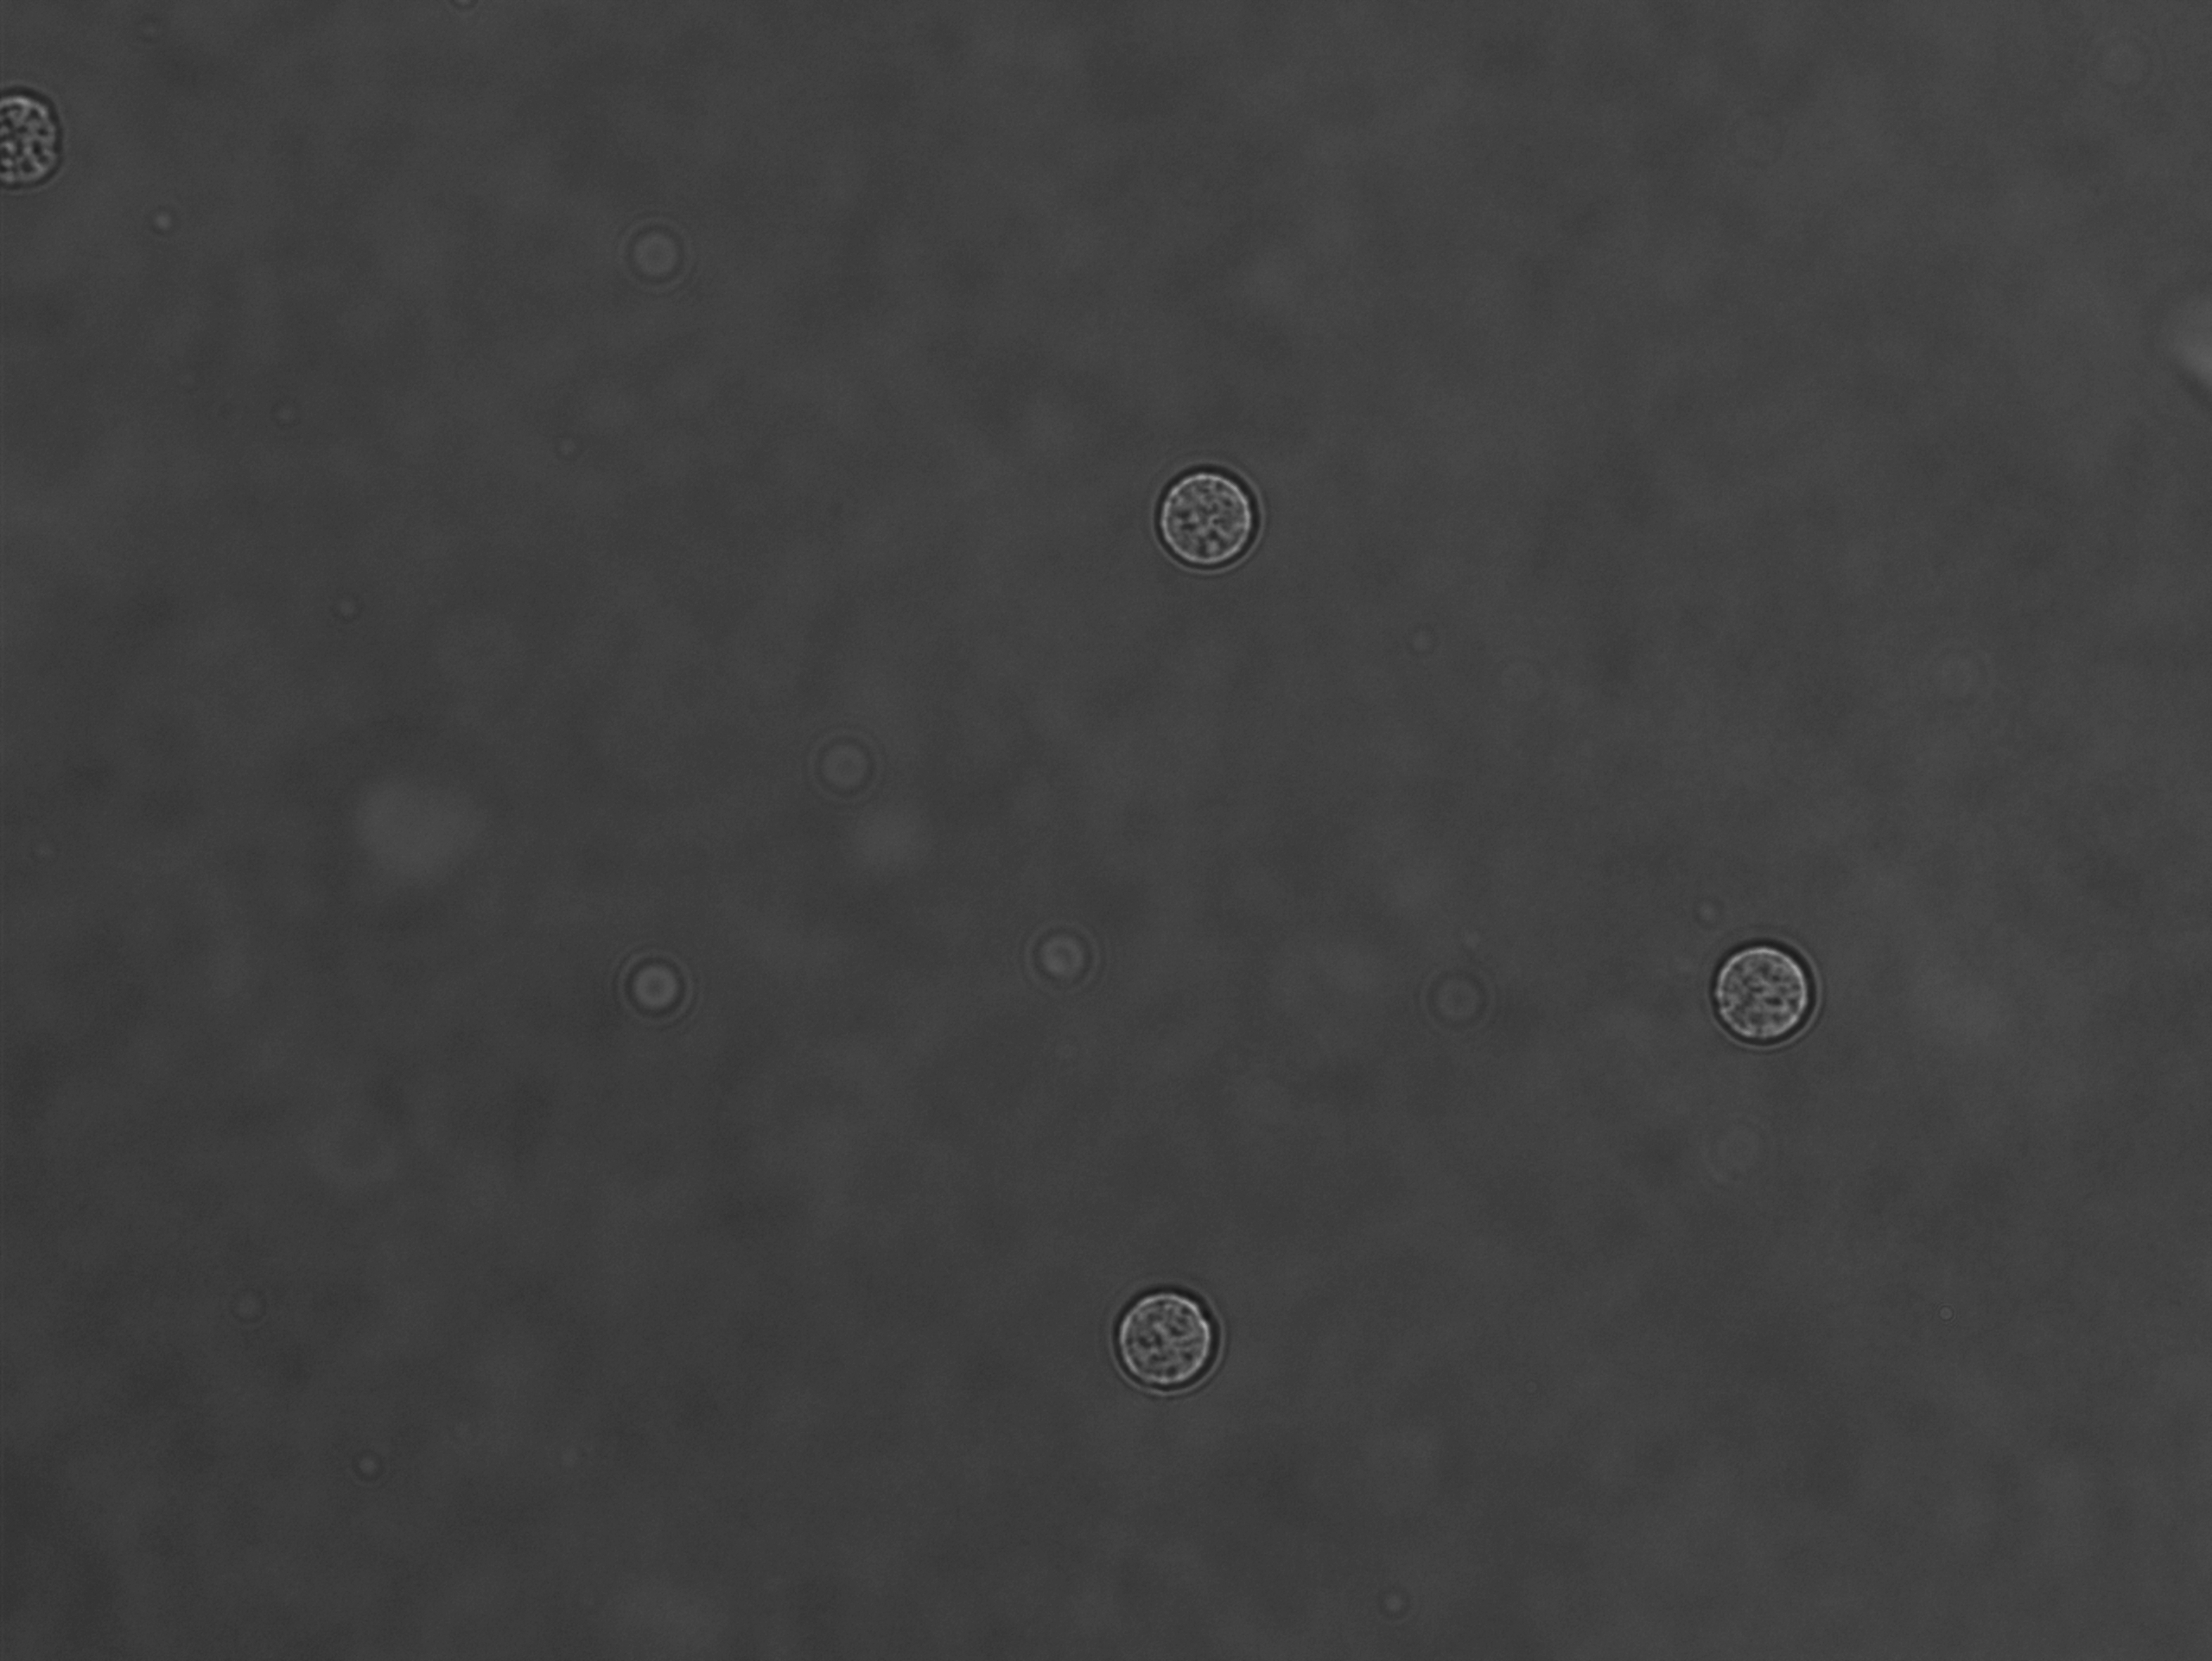depth:0: (1701, 923, 1863, 1073), (1090, 1265, 1239, 1403), (1144, 450, 1275, 593)
